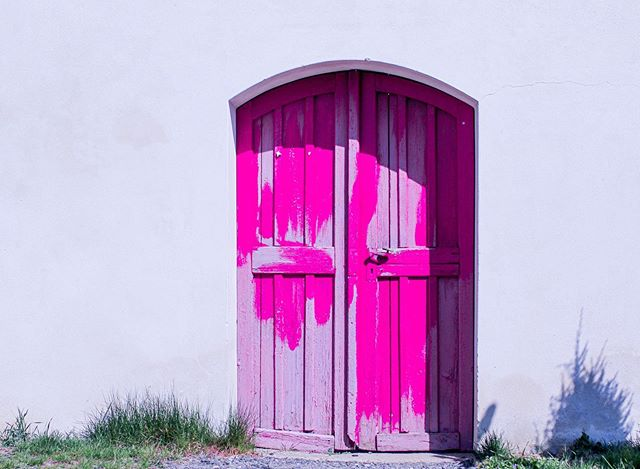door: (232, 61, 482, 453)
